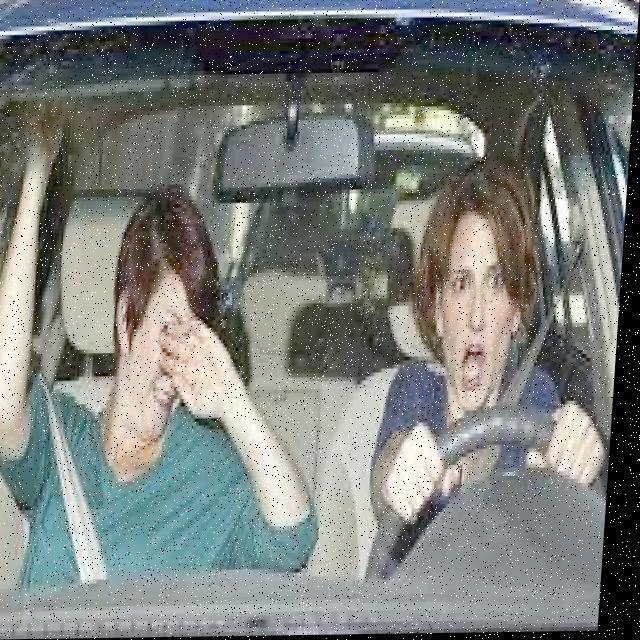seatbelt: (4, 388, 205, 600)
